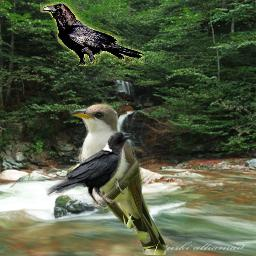Crow: (45, 129, 136, 207), (40, 2, 145, 66)
Cuckoo: (70, 102, 166, 255)
